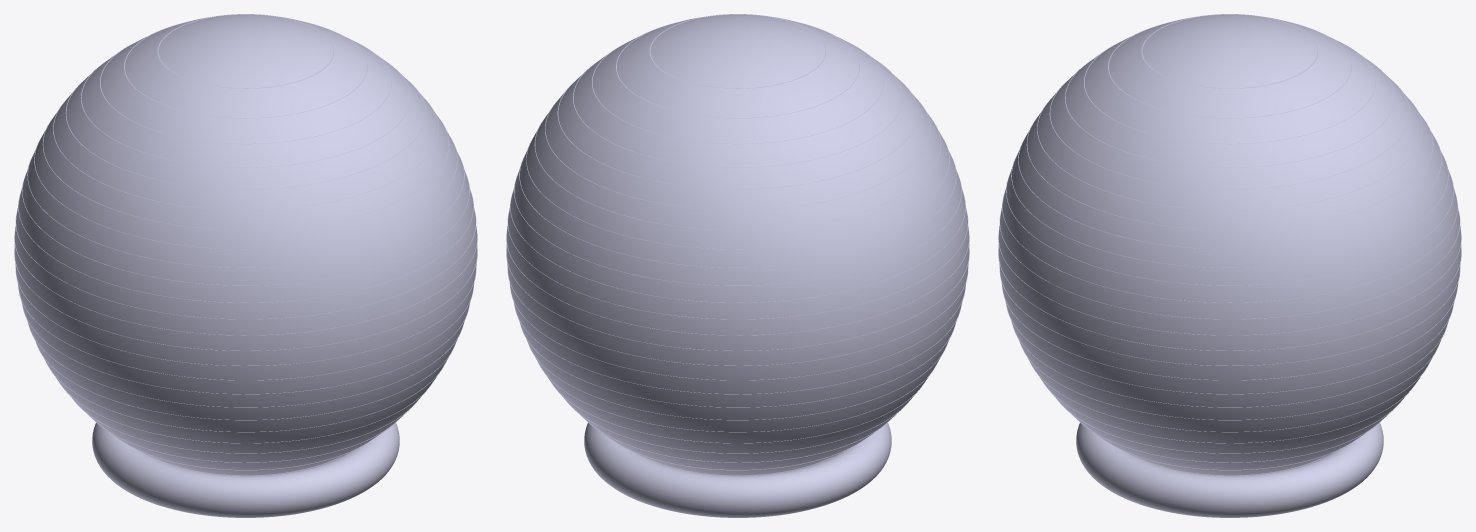
File: balanceball.gltf
3 renders of one model, left to right at view 1: azimuth 30°, elevation 25°; view 2: azimuth 150°, elevation 25°; view 3: azimuth 270°, elevation 25°, orthographic.
Visible parts, largest first — view 1: balanceball_clone; view 2: balanceball_clone; view 3: balanceball_clone.
Boxes of the visible parts, bbox=[...] form: balanceball_clone: bbox=[14, 14, 477, 517]; balanceball_clone: bbox=[506, 14, 969, 517]; balanceball_clone: bbox=[998, 14, 1461, 517].
Size of the model in its own units: 0.5506 by 0.5558 by 0.5506.
